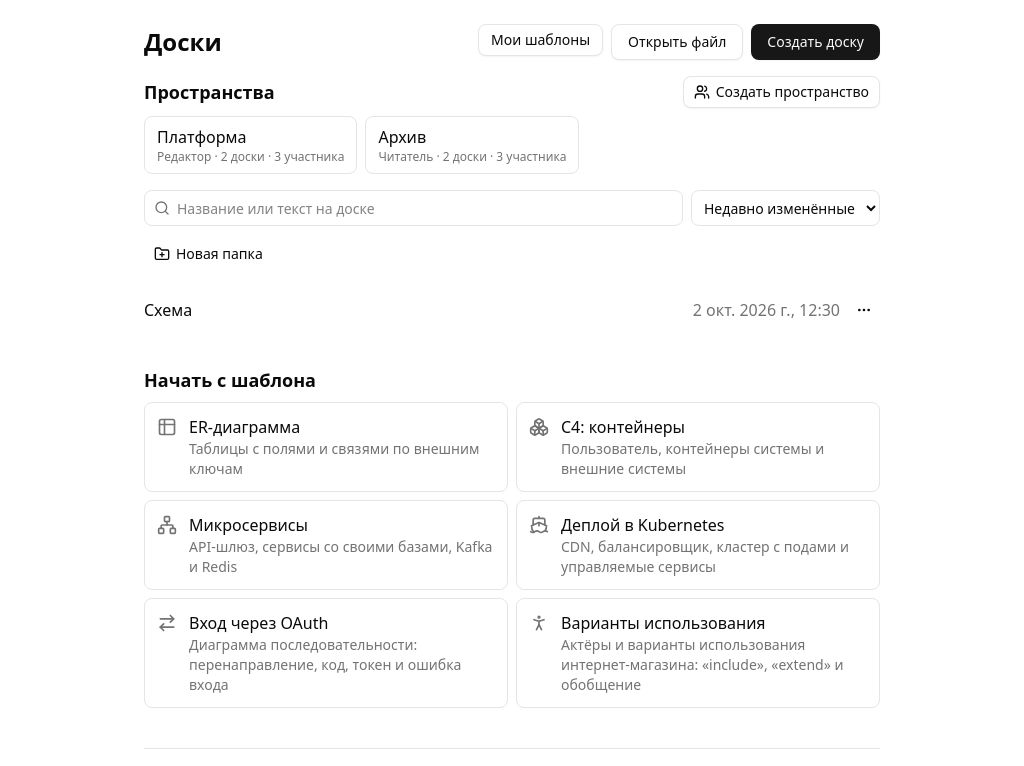
Test: Workspaces on the main page › brings a personal board into a workspace where the user edits, from the menu of the board
Click the button named "Меню доски «Схема»" at (864,310), box x1=848 y1=294 x2=880 y2=326
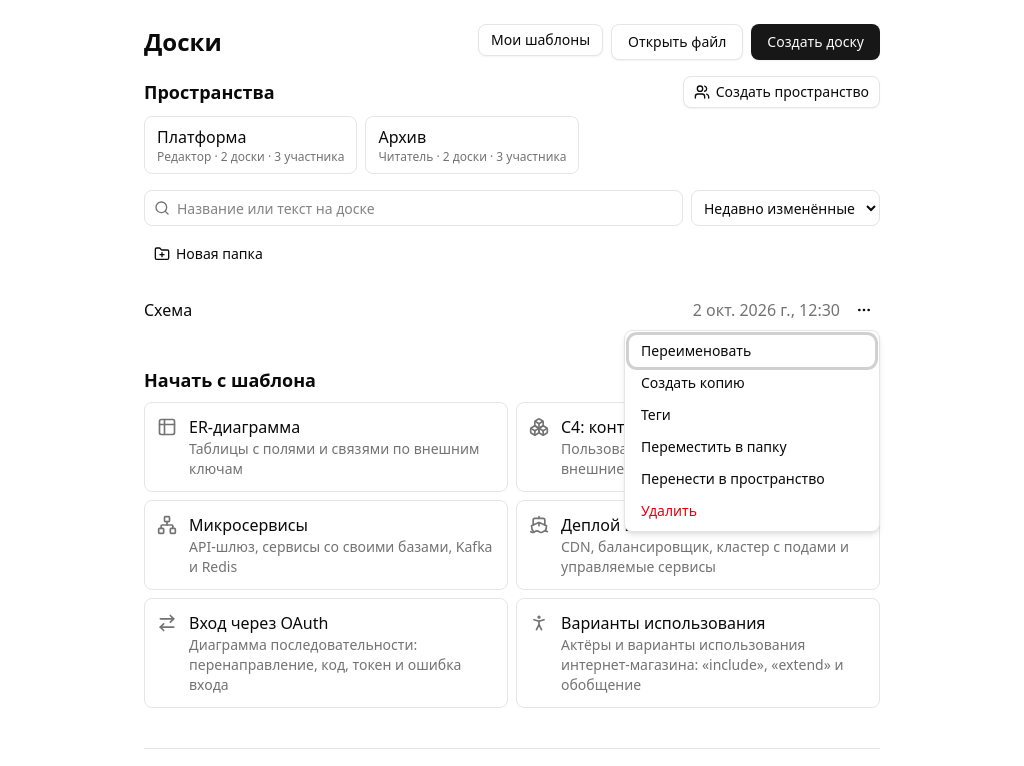
Click the menu item "Перенести в пространство" at (752,479), box x1=629 y1=463 x2=875 y2=495
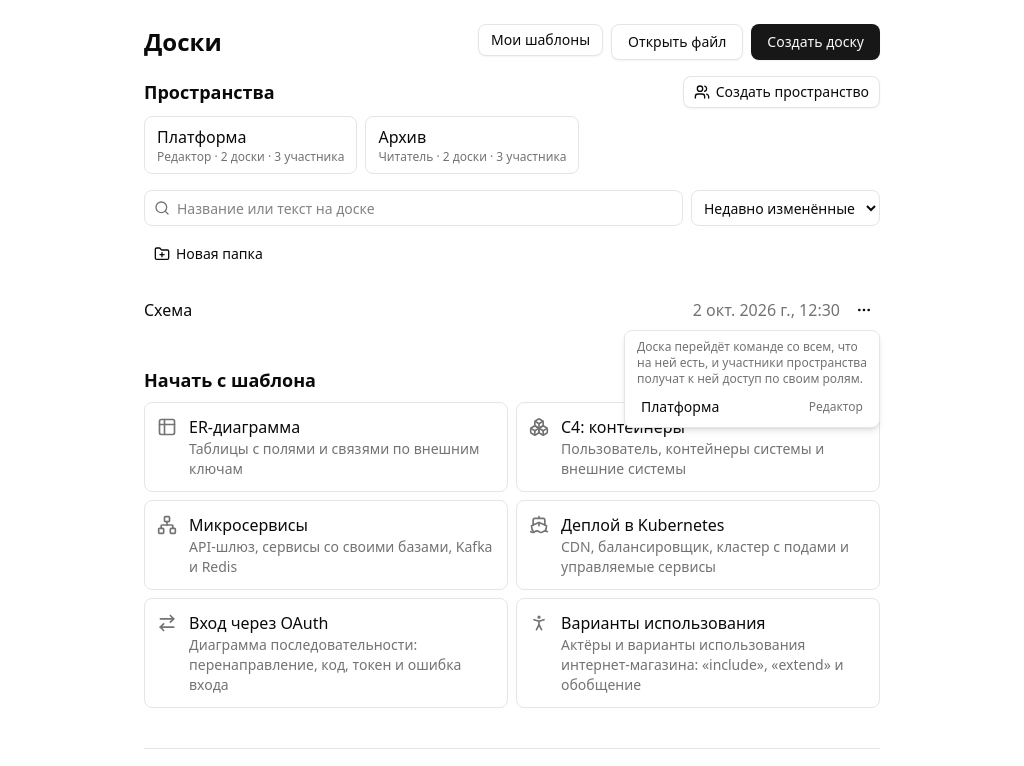
Click the menu item "Платформа Редактор" at (752,407), box x1=629 y1=391 x2=875 y2=423
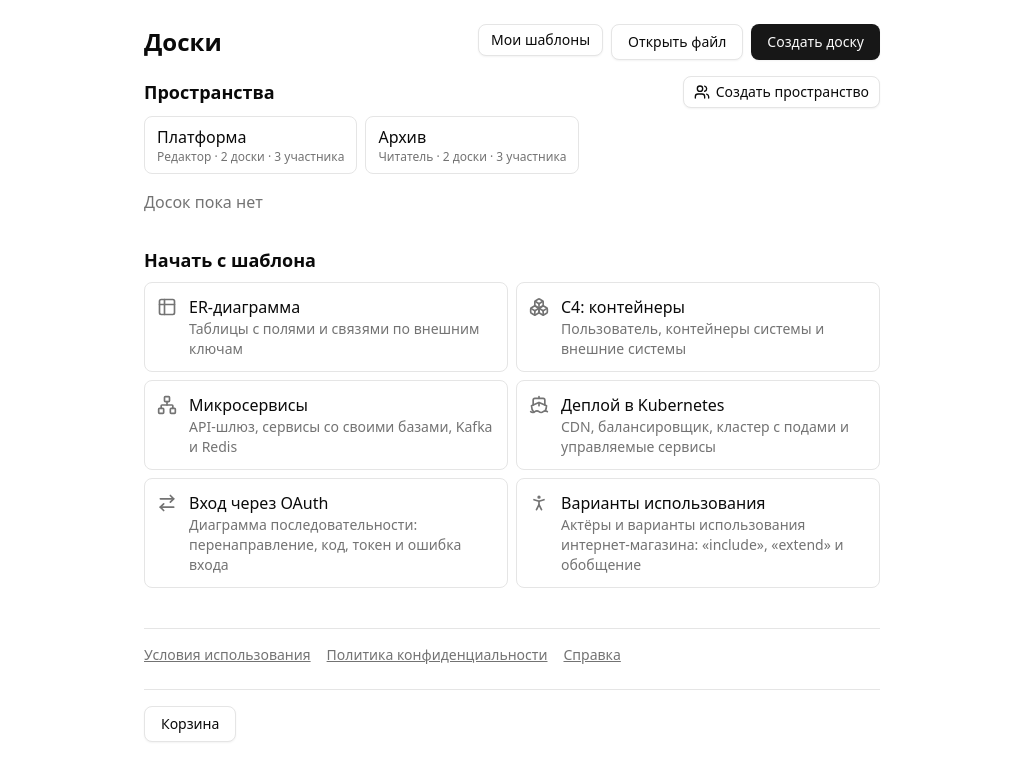
Now the link "Схема" is gone
